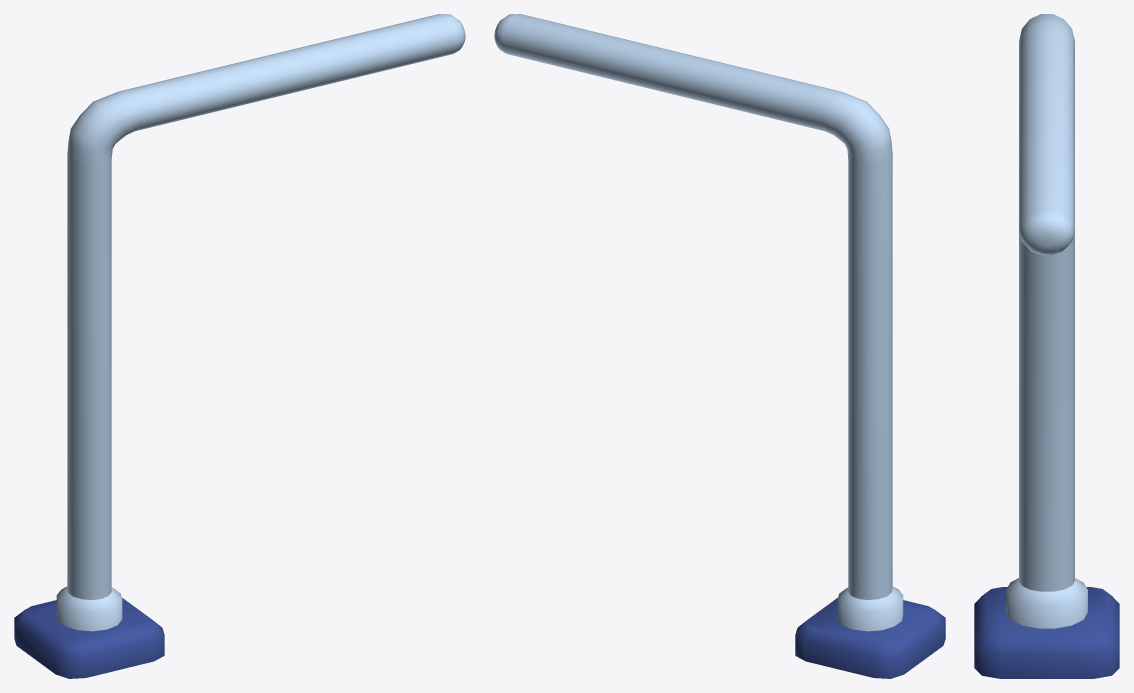
File: Pole.fbx
3 views of the same model, side by side, from view 1: azimuth 30°, elevation 25°; view 2: azimuth 150°, elevation 25°; view 3: azimuth 270°, elevation 25° (orthographic). The views are drawn at different scales.
Parts seen in each view (by area): view 1: Cylinder; view 2: Cylinder; view 3: Cylinder.
Part boxes in pixels (left/top/right/bottom): Cylinder: left=14, top=14, right=465, bottom=678; Cylinder: left=494, top=14, right=945, bottom=678; Cylinder: left=974, top=14, right=1119, bottom=678.
Bounding box in the file's own units: 502 × 617 × 126.
1 material, 1 textured.
